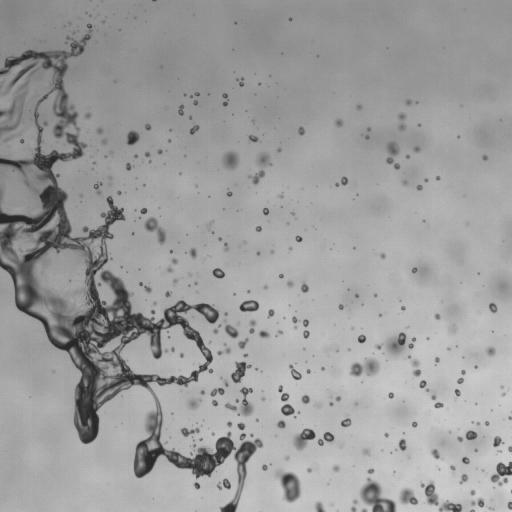droplet: (275, 470, 300, 503), (225, 387, 253, 416), (349, 357, 379, 376), (490, 461, 511, 486), (293, 428, 315, 450), (230, 361, 251, 382), (386, 332, 406, 354), (399, 487, 418, 505), (222, 151, 239, 169), (239, 300, 259, 311), (318, 432, 334, 445), (127, 131, 139, 145), (217, 343, 230, 355), (470, 497, 485, 507), (217, 478, 230, 489), (187, 399, 201, 409), (212, 268, 224, 278), (465, 430, 477, 440), (335, 177, 348, 186), (419, 380, 429, 391), (493, 436, 503, 447), (314, 501, 325, 511), (238, 338, 248, 348), (341, 417, 351, 427), (93, 182, 101, 194), (398, 438, 406, 450), (431, 449, 440, 459), (190, 125, 199, 134), (357, 334, 366, 343), (486, 347, 495, 356), (489, 302, 497, 312), (301, 281, 308, 292), (448, 324, 456, 333), (301, 395, 310, 403), (189, 248, 196, 258), (259, 330, 269, 337), (277, 420, 285, 428), (249, 135, 258, 142), (460, 474, 467, 483), (335, 119, 342, 127), (267, 309, 274, 317), (237, 422, 245, 429), (298, 126, 304, 135), (434, 402, 443, 408), (178, 105, 183, 115), (398, 113, 405, 120), (292, 316, 298, 324), (303, 330, 309, 338), (398, 124, 405, 130), (126, 163, 132, 170), (140, 208, 147, 214), (295, 236, 302, 242), (287, 280, 293, 287), (454, 389, 460, 396), (462, 457, 469, 463), (145, 124, 151, 130), (166, 266, 172, 272), (165, 291, 171, 297), (434, 313, 440, 319), (457, 377, 463, 383), (363, 449, 369, 455), (333, 465, 339, 471), (96, 128, 103, 133), (263, 208, 268, 215), (303, 319, 308, 326), (223, 379, 228, 386), (431, 392, 436, 399), (367, 468, 374, 473), (194, 482, 199, 489), (507, 501, 511, 509), (406, 99, 411, 105), (414, 146, 419, 152), (416, 185, 422, 190), (171, 258, 177, 263), (375, 344, 381, 349), (388, 392, 393, 398), (212, 400, 217, 406), (412, 421, 417, 427), (457, 436, 463, 441), (262, 464, 267, 470), (450, 465, 455, 471), (224, 243, 228, 250), (85, 113, 90, 118), (157, 149, 162, 154), (482, 155, 487, 160), (227, 191, 232, 196), (256, 226, 261, 231), (380, 253, 385, 258), (412, 267, 417, 272), (470, 490, 475, 495), (508, 446, 511, 453), (360, 508, 367, 511), (193, 100, 197, 105), (43, 121, 47, 126), (102, 139, 106, 144), (145, 152, 149, 157), (173, 278, 177, 283), (339, 304, 343, 309), (277, 330, 282, 334), (435, 357, 439, 362), (461, 370, 465, 375), (336, 396, 340, 401), (227, 421, 231, 426), (307, 468, 312, 472), (357, 105, 361, 109), (365, 135, 369, 139), (436, 176, 440, 180), (424, 178, 428, 182), (403, 180, 407, 184), (117, 190, 121, 194), (279, 274, 283, 278), (401, 306, 405, 310), (200, 390, 204, 394), (315, 403, 319, 407), (485, 421, 489, 425), (293, 326, 297, 329), (171, 347, 174, 351), (476, 422, 480, 425), (385, 433, 388, 437), (285, 456, 288, 460), (195, 92, 198, 95), (20, 139, 23, 142), (406, 155, 409, 158), (280, 194, 283, 197), (291, 212, 294, 215), (218, 237, 221, 240), (289, 247, 292, 250), (180, 353, 183, 356), (244, 353, 247, 356), (307, 370, 310, 373), (329, 402, 332, 405), (508, 416, 511, 419), (497, 450, 500, 453), (367, 128, 370, 130), (278, 148, 280, 151), (134, 155, 137, 157), (210, 221, 212, 224), (257, 252, 259, 255), (264, 286, 267, 288), (355, 294, 358, 296), (374, 294, 377, 296), (153, 302, 156, 304), (321, 367, 324, 369), (502, 393, 505, 395), (262, 397, 264, 400), (235, 399, 238, 401), (250, 434, 253, 436), (199, 438, 202, 440), (489, 507, 492, 509), (289, 18, 291, 20), (19, 132, 21, 134), (109, 176, 111, 178), (271, 251, 273, 253), (247, 290, 249, 292), (408, 356, 410, 358), (256, 419, 258, 421)
ligament: (0, 24, 261, 511), (420, 480, 461, 511), (359, 477, 396, 511), (249, 152, 271, 184), (144, 217, 165, 244), (278, 385, 294, 415), (386, 142, 399, 169), (224, 321, 238, 338), (289, 365, 301, 380), (411, 359, 421, 376), (180, 428, 199, 436), (210, 388, 224, 396), (140, 283, 151, 292), (350, 499, 357, 511), (249, 320, 255, 333), (408, 337, 415, 348), (222, 93, 227, 106), (213, 325, 220, 333), (238, 77, 243, 86), (6, 135, 13, 141), (0, 190, 2, 197), (469, 509, 475, 511), (0, 173, 3, 176)
